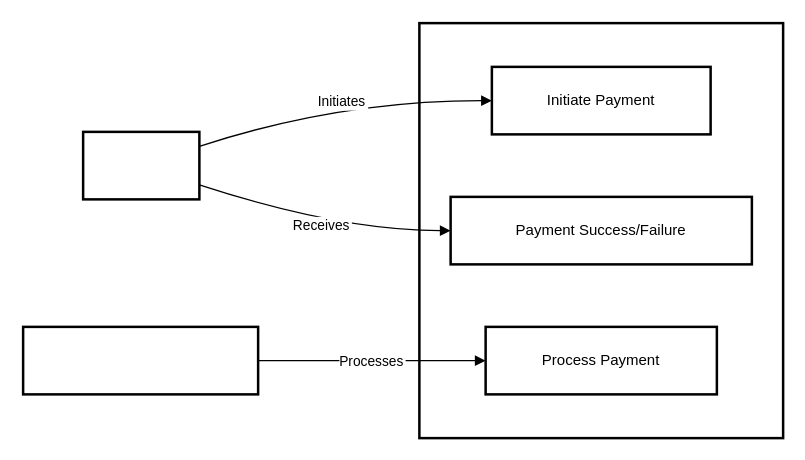
This 805x460 diagram has some shape labels left out. Each missing label, with the box of its shape:
Payment Gateway: (21, 325, 259, 395)
User: (81, 130, 200, 200)
